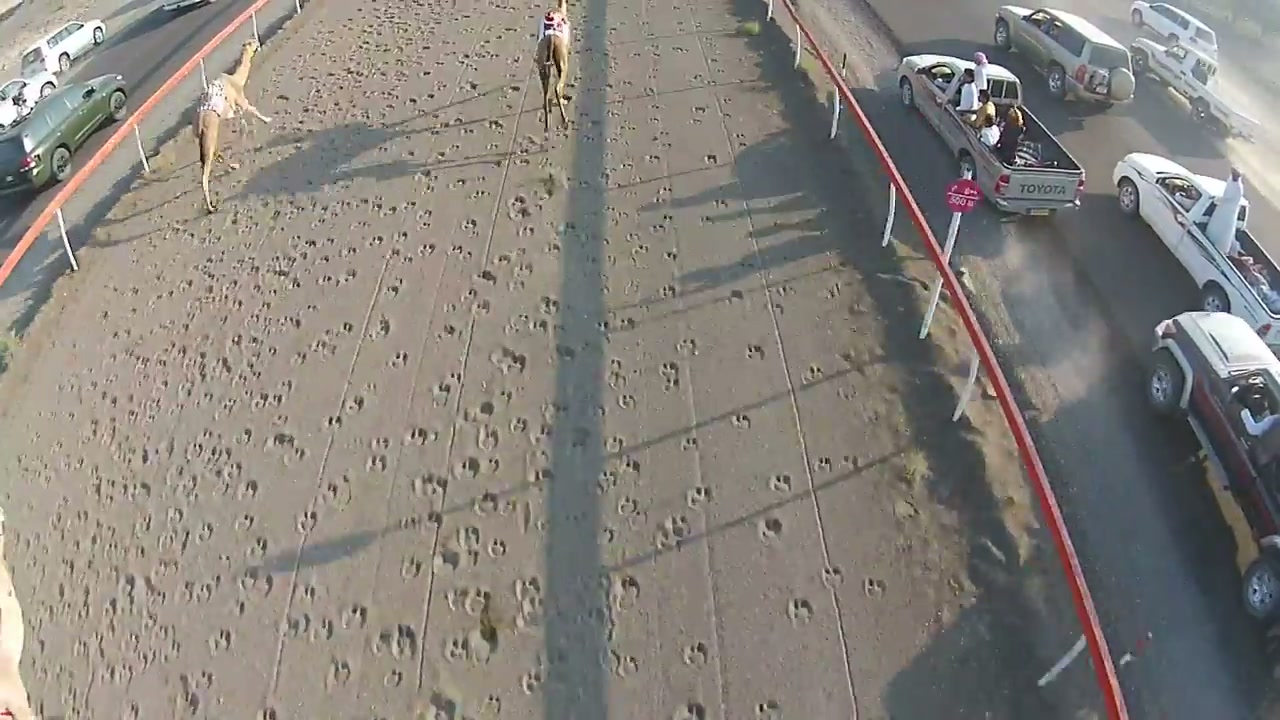animal_footprint: (82, 171, 411, 717), (375, 102, 609, 719), (626, 106, 828, 695)
